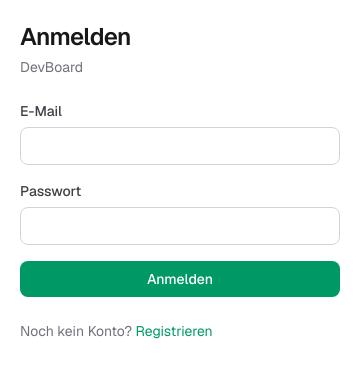
Anmeldeseite › verlangt ein Passwort
In the field labelled "E-Mail": {"x": 180, "y": 146} 20,127 -> 340,165, type "max@example.com"
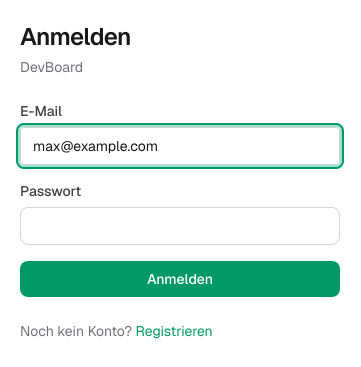
Click the button "Anmelden": {"x": 180, "y": 279} 20,261 -> 340,297
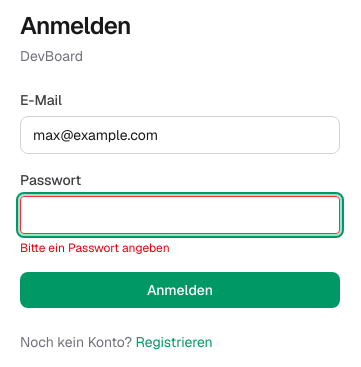
Result: the text "Bitte ein Passwort angeben" is shown at 20,240 -> 170,256
